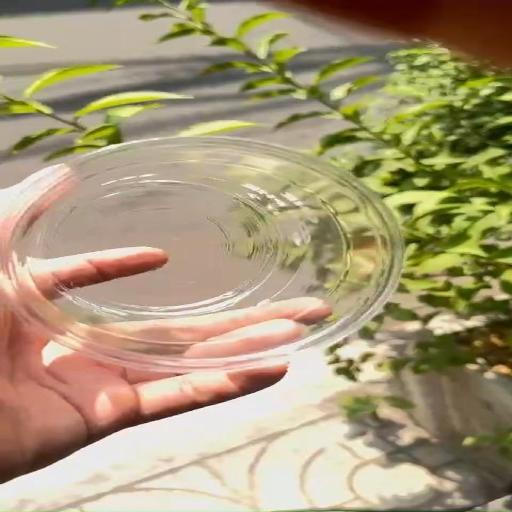ly_giay: (0, 135, 400, 372)
